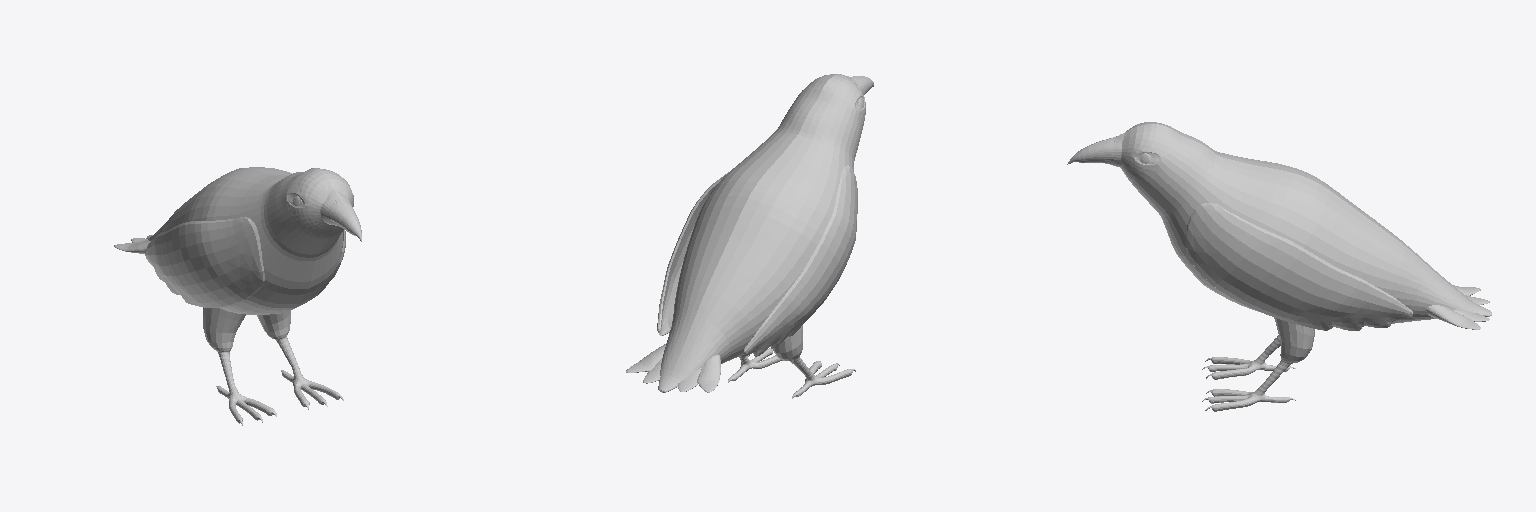
File: cuervo.obj
3 views of the same model, side by side, from view 1: azimuth 30°, elevation 25°; view 2: azimuth 150°, elevation 25°; view 3: azimuth 270°, elevation 25° (orthographic).
Visible parts, largest first — view 1: Cylinder, Cylinder.003, Cylinder.001; view 2: Cylinder, Cylinder.003, Cylinder.001; view 3: Cylinder, Cylinder.003, Cylinder.001.
Boxes of the visible parts, x1,y1,x2,y2 form: Cylinder: [114, 167, 361, 314]; Cylinder.003: [145, 217, 345, 307]; Cylinder.001: [203, 307, 343, 425]; Cylinder: [626, 74, 873, 392]; Cylinder.003: [657, 165, 857, 356]; Cylinder.001: [728, 325, 855, 398]; Cylinder: [1067, 122, 1491, 329]; Cylinder.003: [1186, 203, 1413, 330]; Cylinder.001: [1202, 318, 1314, 411].
Bounding box in the file's own units: 3.12 × 5.49 × 8.01.